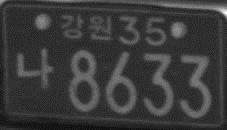3: (179, 54, 212, 119), (142, 52, 174, 116), (117, 15, 140, 45)
5: (145, 16, 167, 46)
6: (104, 51, 138, 114)
8: (68, 50, 100, 112)
강원_O: (60, 13, 112, 42)
나: (16, 47, 53, 88)
